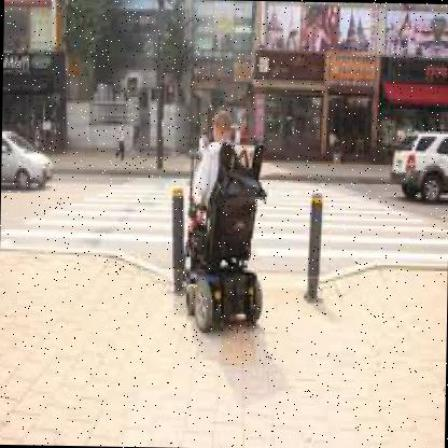wheel: (182, 108, 266, 330)
